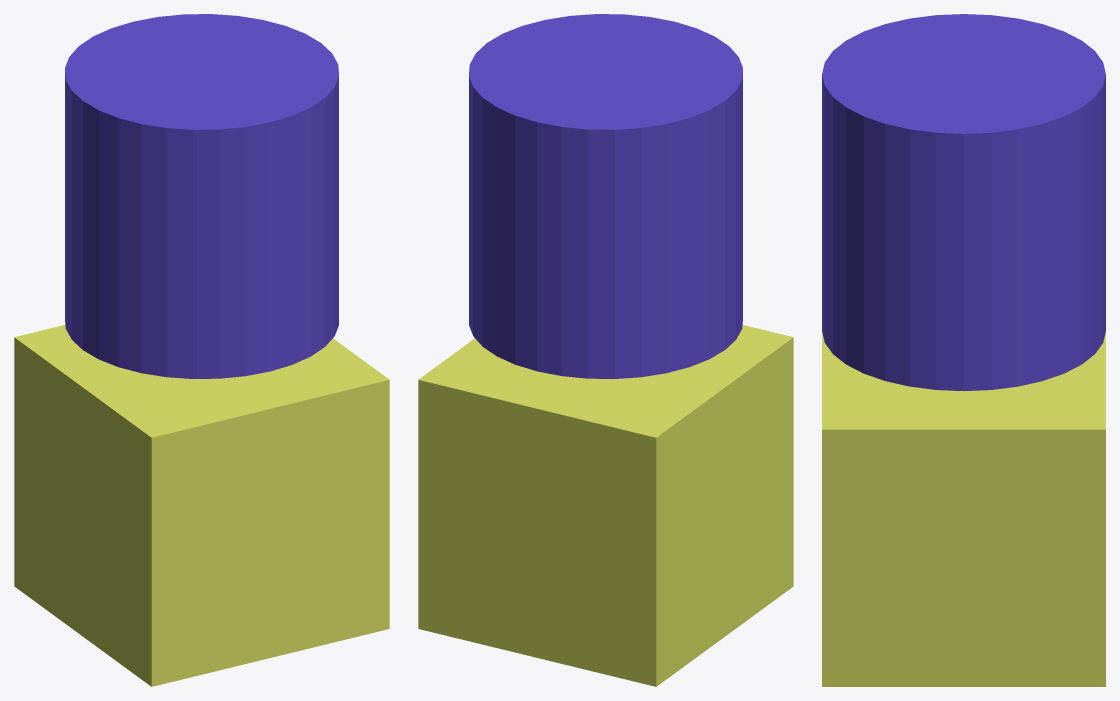
3 renders of one model, left to right at view 1: azimuth 30°, elevation 25°; view 2: azimuth 150°, elevation 25°; view 3: azimuth 270°, elevation 25°, orthographic. The views are drawn at different scales.
Parts seen in each view (by area): view 1: Cube, Cylinder; view 2: Cube, Cylinder; view 3: Cylinder, Cube.
Boxes of the visible parts, x1=… form: Cube: x1=14, y1=325, x2=389, y2=686; Cylinder: x1=65, y1=14, x2=338, y2=378; Cube: x1=418, y1=325, x2=793, y2=686; Cylinder: x1=469, y1=14, x2=742, y2=378; Cylinder: x1=822, y1=14, x2=1105, y2=390; Cube: x1=822, y1=332, x2=1105, y2=686.
Size of the model in its own units: 2 by 4.3 by 2.
